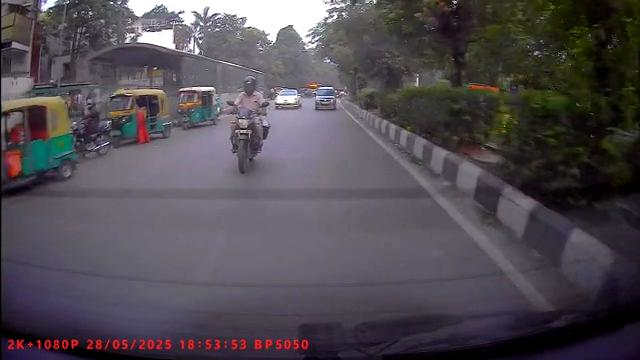motorcycle_with_helmet: (227, 73, 271, 175)
